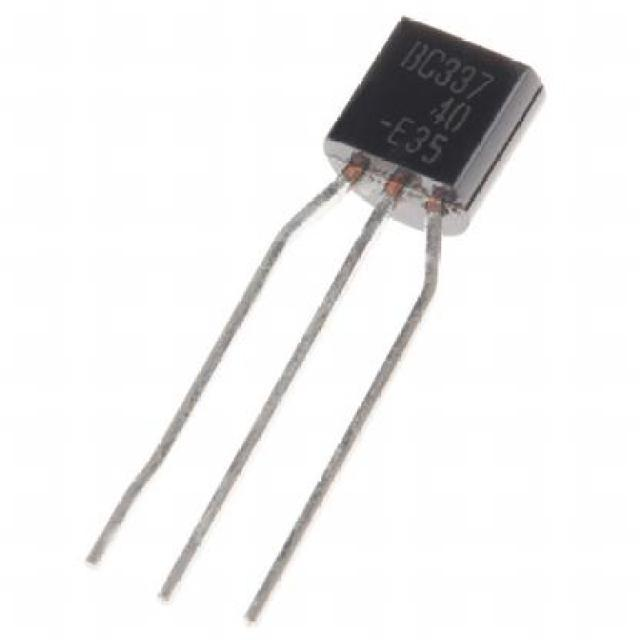Transistor: (325, 15, 545, 211)
